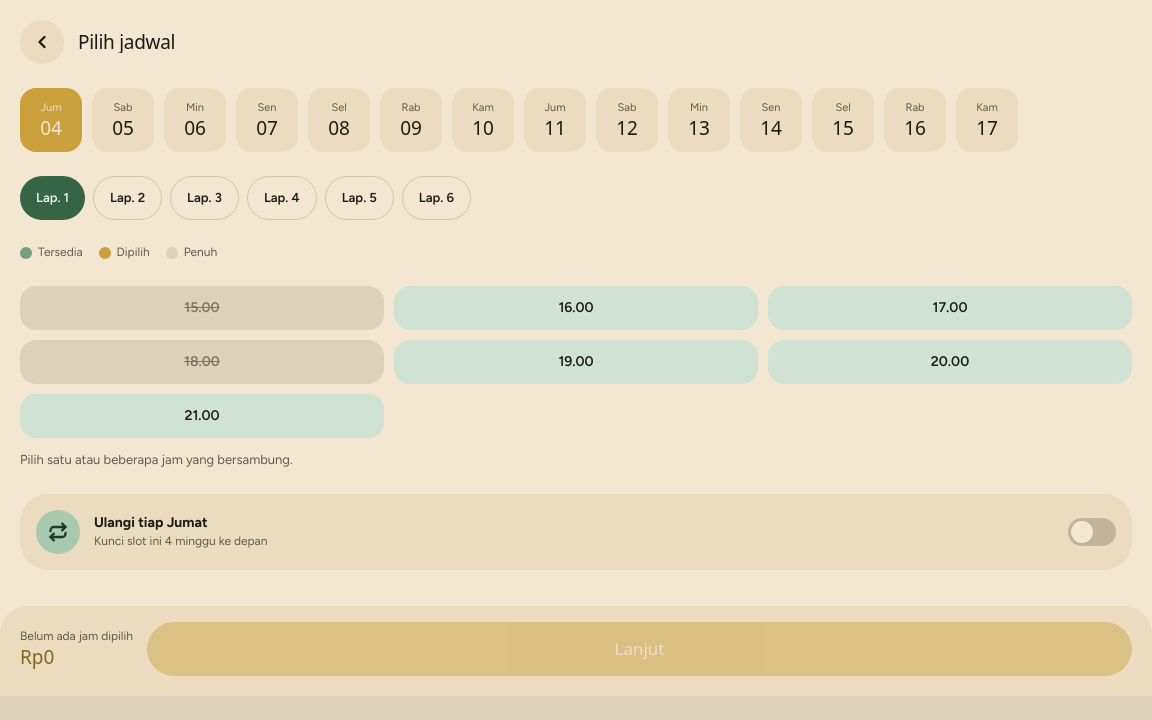
Test: ScheduleScreen — aturan pilih slot › memilih satu jam dan menampilkan rentangnya
Click the button "19.00".
click(576, 362)  # box [394,340,758,384]
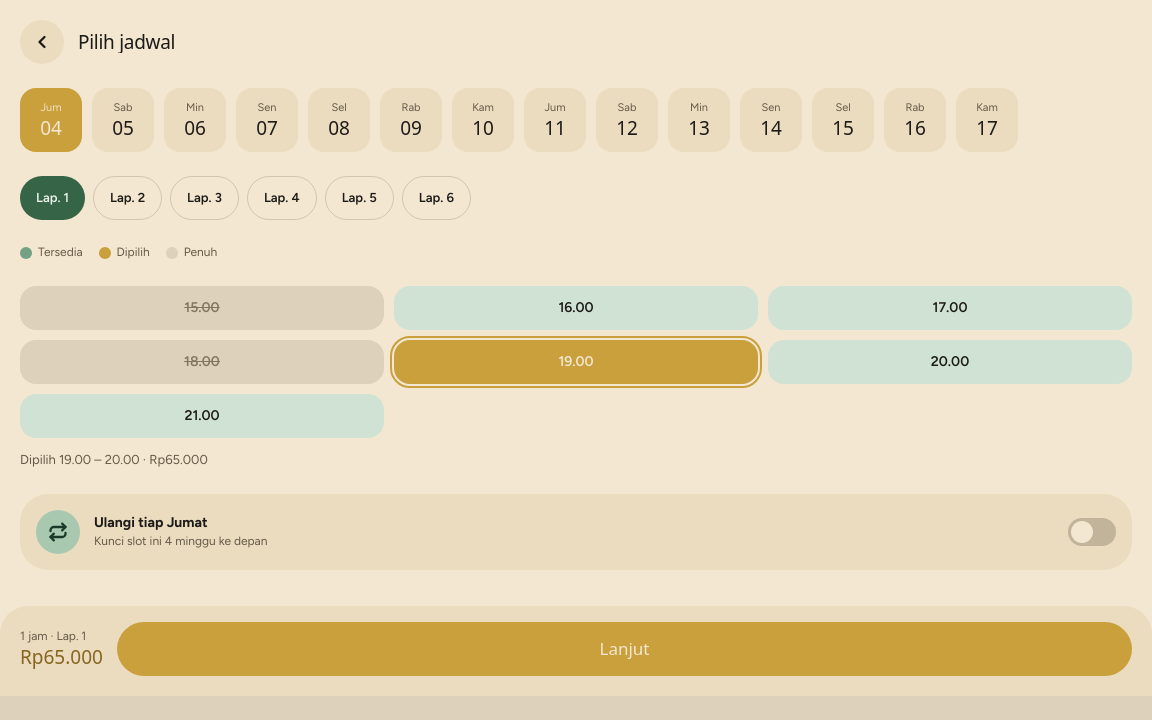
Result: the text "Dipilih 19.00 – 20.00 · Rp65.000" is shown at [20,452,208,467]
